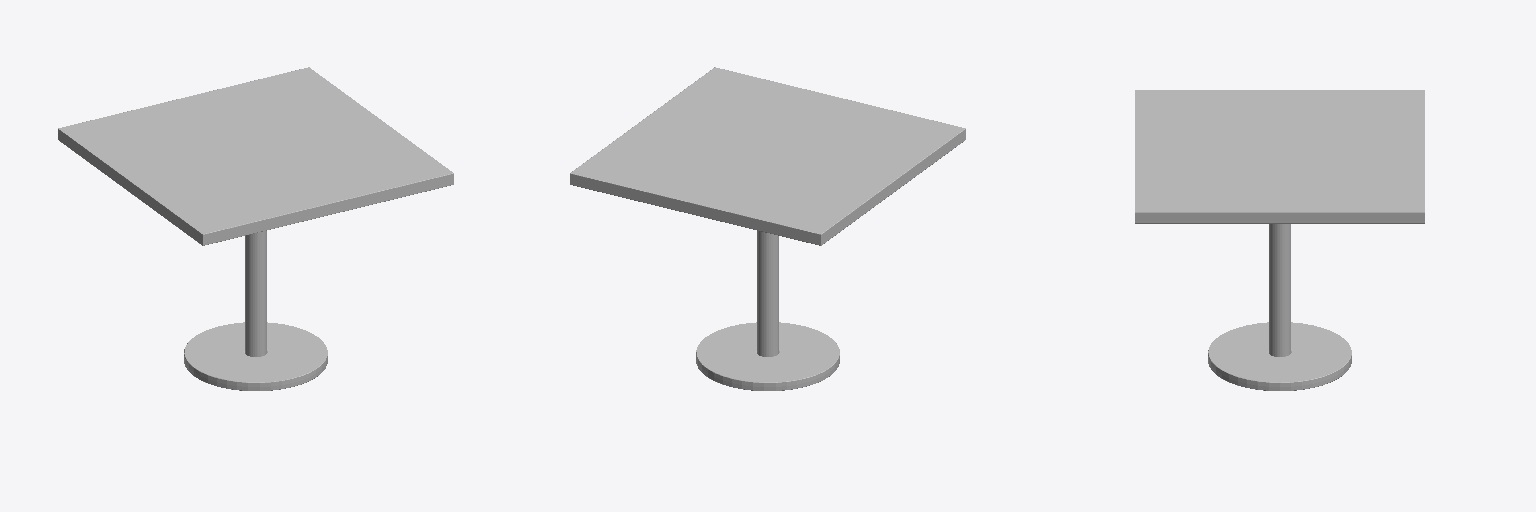
The model's file is Zenith Table Square_obj.obj.
The picture shows the model from 3 angles: view 1: azimuth 30°, elevation 25°; view 2: azimuth 150°, elevation 25°; view 3: azimuth 270°, elevation 25°; orthographic projection.
Parts seen in each view (by area): view 1: Zenith_Table_Square; view 2: Zenith_Table_Square; view 3: Zenith_Table_Square.
Part boxes in pixels (x1,y1,x2,y2): Zenith_Table_Square: (58, 67, 453, 390); Zenith_Table_Square: (570, 67, 965, 390); Zenith_Table_Square: (1135, 90, 1424, 390).
Bounding box in the file's own units: 90 × 72 × 90.